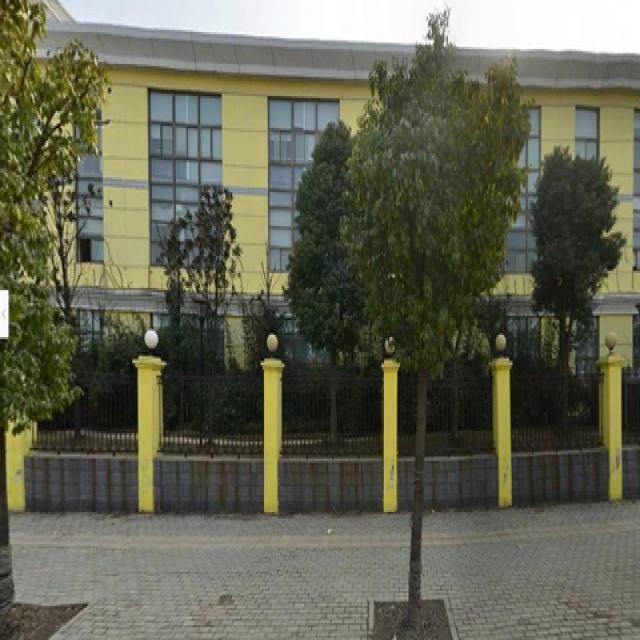cinn: (375, 62, 472, 610)
